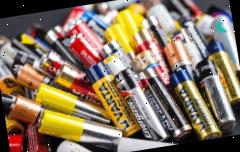electronic: (78, 53, 151, 147)
